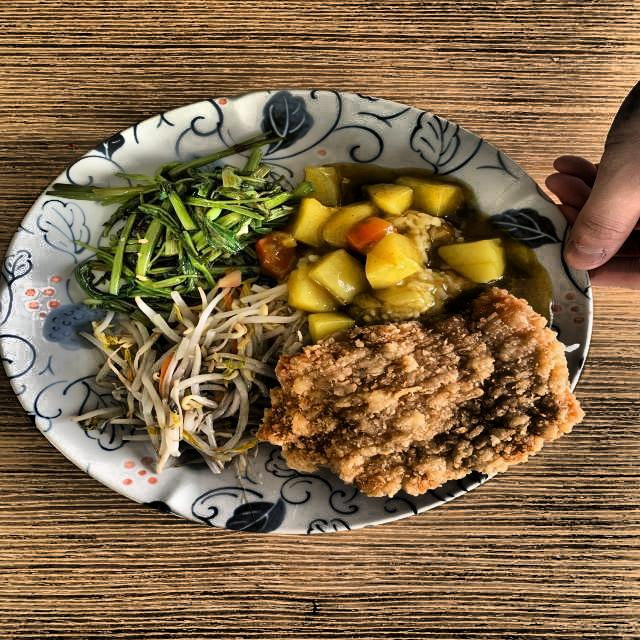Food: (298, 320, 567, 476), (298, 186, 501, 302), (117, 313, 270, 438), (101, 170, 273, 278)
